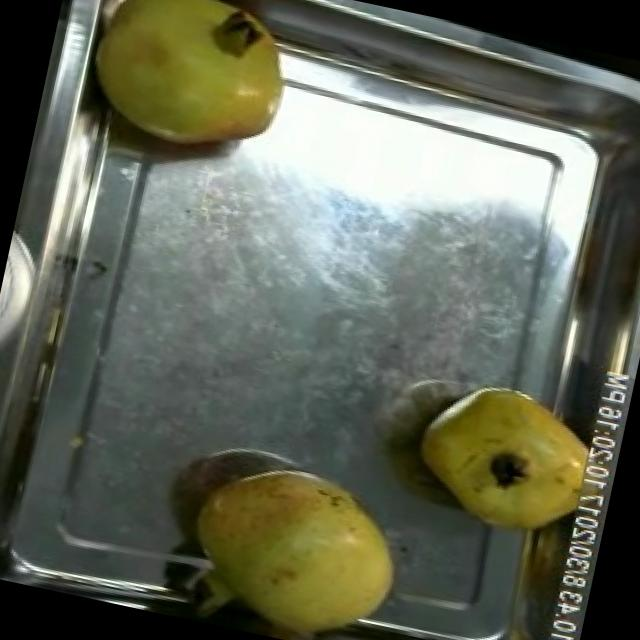fruit: (168, 441, 426, 640), (64, 0, 325, 182), (397, 368, 611, 557)
